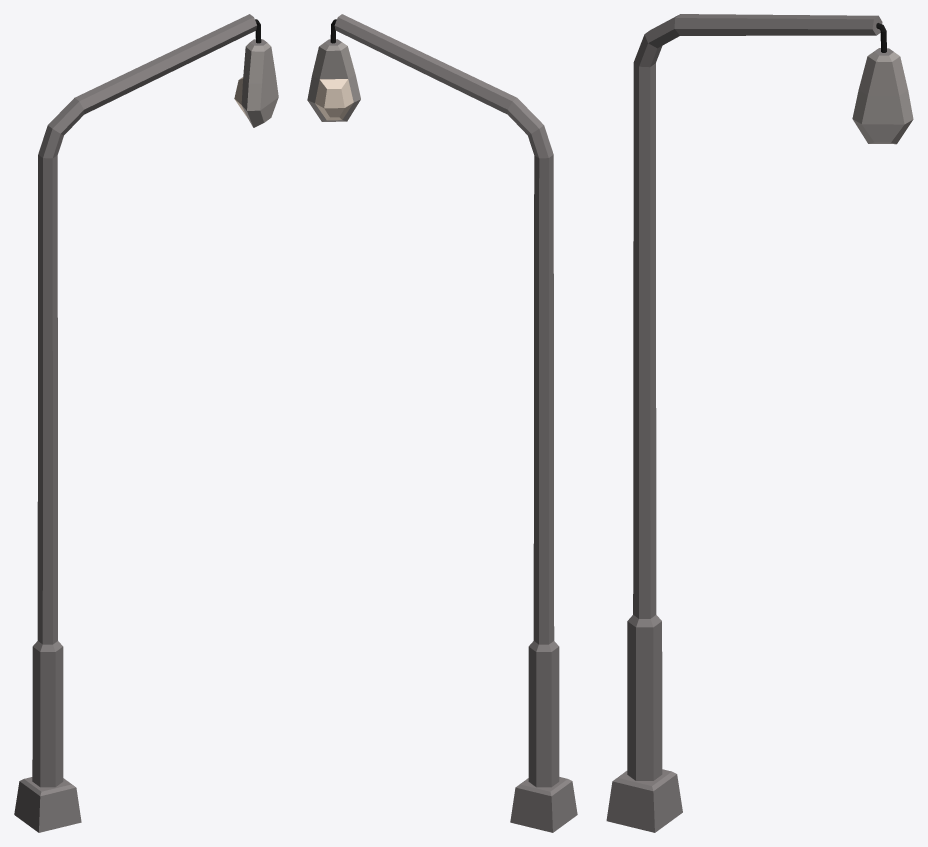
Rendered from apocalypse_lamp-road-apocalypse-a.fbx.
3 views of the same model, side by side, from view 1: azimuth 30°, elevation 25°; view 2: azimuth 150°, elevation 25°; view 3: azimuth 330°, elevation 25° (orthographic). The views are drawn at different scales.
Parts seen in each view (by area): view 1: apocalypse_lamp_road_apocalypse_a; view 2: apocalypse_lamp_road_apocalypse_a; view 3: apocalypse_lamp_road_apocalypse_a.
Part boxes in pixels (<box>): apocalypse_lamp_road_apocalypse_a: <box>14,14,278,832</box>; apocalypse_lamp_road_apocalypse_a: <box>307,14,577,832</box>; apocalypse_lamp_road_apocalypse_a: <box>606,14,913,832</box>.
Bounding box in the file's own units: 70.12 × 200 × 11.88.
